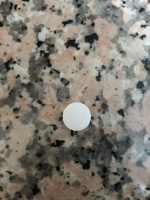Parol: (61, 101, 93, 133)
